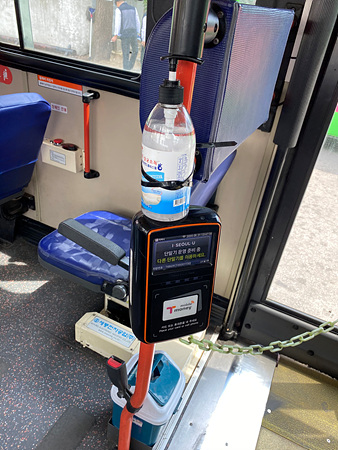terminal: (133, 211, 214, 340)
